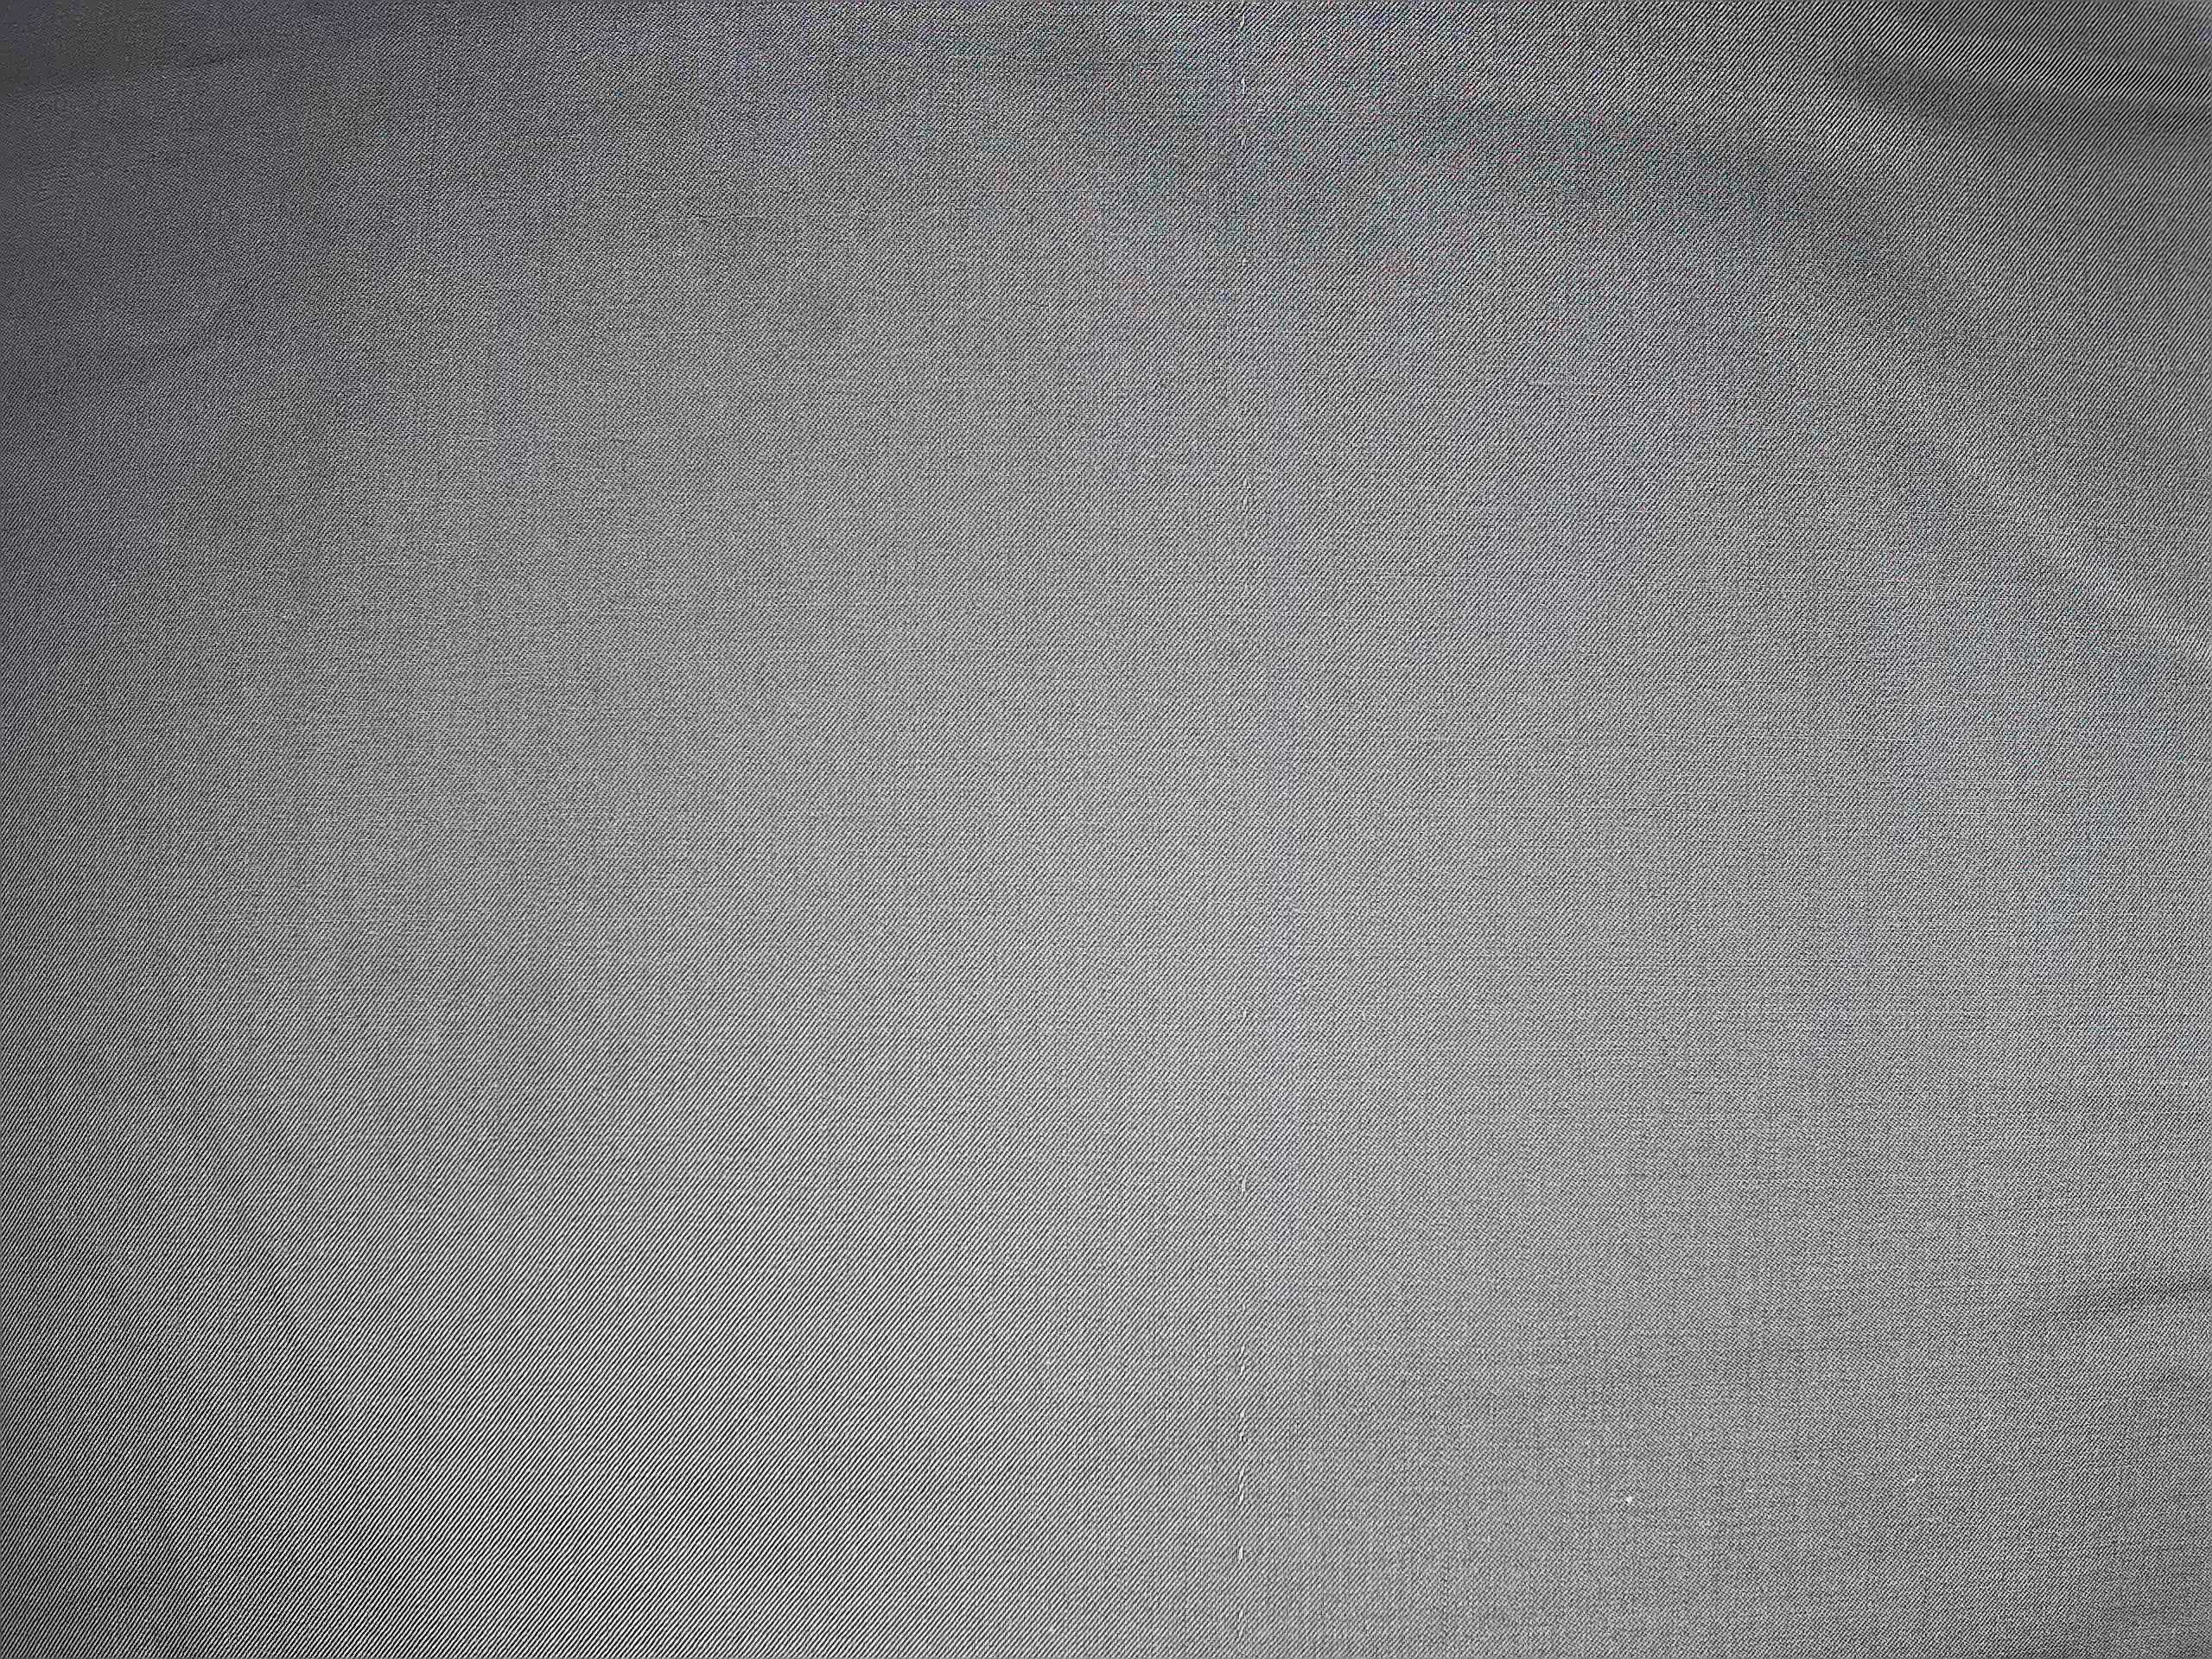jumps: (1224, 1161, 1264, 1656), (1233, 997, 1259, 1031)
